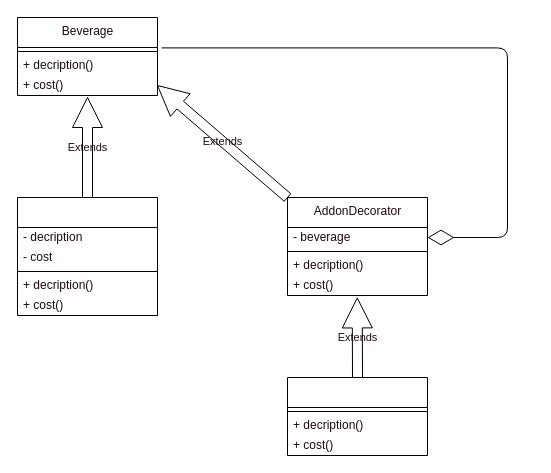
The diagram is 551 pixels wide and 473 high, and some of its shapes have lost their labels. Each missing label, with the box of its shape:
CaramelAddon: (286, 376, 428, 456)
EspressoBeverage: (16, 196, 158, 316)
